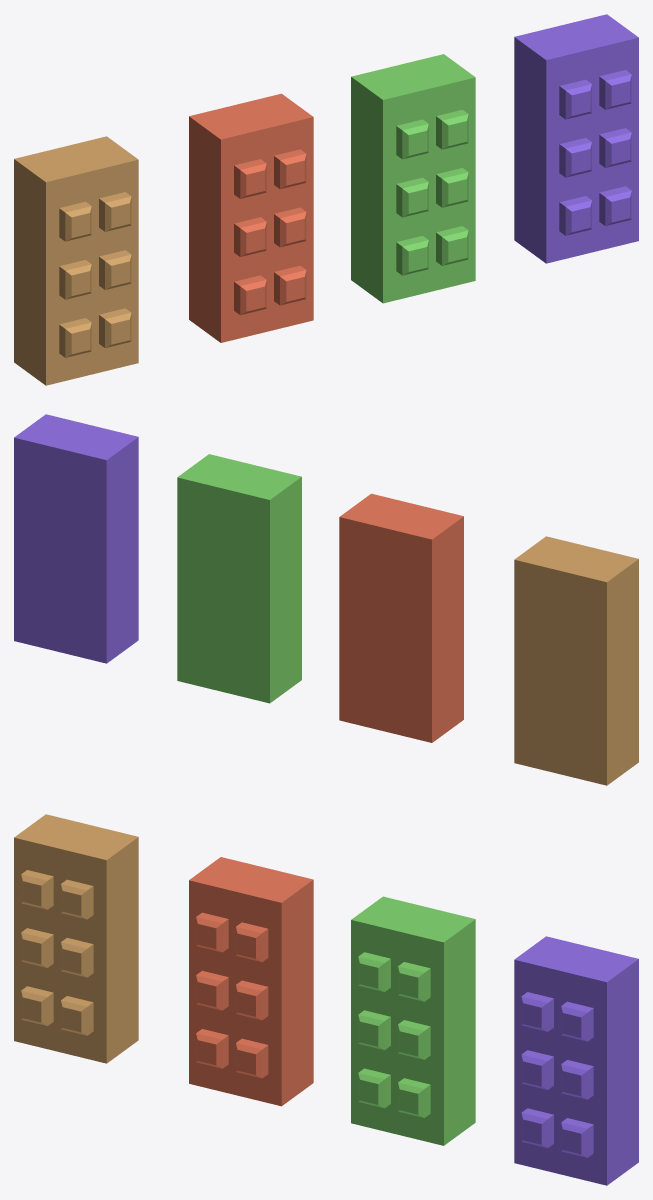
Rendered from lego.fbx.
3 renders of one model, top to bottom at view 1: azimuth 30°, elevation 25°; view 2: azimuth 150°, elevation 25°; view 3: azimuth 330°, elevation 25°, orthographic.
Visible parts, largest first — view 1: polySurface8, polySurface2, polySurface4, polySurface6, polySurface1, polySurface3, polySurface5, polySurface7; view 2: polySurface8, polySurface2, polySurface4, polySurface6, polySurface1, polySurface3, polySurface5, polySurface7; view 3: polySurface3, polySurface7, polySurface1, polySurface5, polySurface8, polySurface6, polySurface4, polySurface2.
Boxes of the visible parts, x1=… form: polySurface8: x1=514, y1=25, x2=592, y2=263; polySurface2: x1=14, y1=147, x2=92, y2=385; polySurface4: x1=189, y1=105, x2=267, y2=342; polySurface6: x1=351, y1=65, x2=429, y2=303; polySurface1: x1=60, y1=136, x2=138, y2=374; polySurface3: x1=236, y1=93, x2=313, y2=331; polySurface5: x1=398, y1=54, x2=475, y2=291; polySurface7: x1=561, y1=14, x2=638, y2=252; polySurface8: x1=60, y1=425, x2=138, y2=663; polySurface2: x1=560, y1=547, x2=638, y2=785; polySurface4: x1=385, y1=505, x2=463, y2=742; polySurface6: x1=223, y1=465, x2=301, y2=703; polySurface1: x1=514, y1=536, x2=592, y2=774; polySurface3: x1=339, y1=493, x2=416, y2=731; polySurface5: x1=177, y1=454, x2=254, y2=691; polySurface7: x1=14, y1=414, x2=91, y2=652; polySurface3: x1=235, y1=868, x2=313, y2=1106; polySurface7: x1=560, y1=947, x2=638, y2=1185; polySurface1: x1=60, y1=825, x2=138, y2=1063; polySurface5: x1=397, y1=908, x2=475, y2=1145; polySurface8: x1=514, y1=936, x2=592, y2=1174; polySurface6: x1=351, y1=896, x2=428, y2=1134; polySurface4: x1=189, y1=857, x2=266, y2=1094; polySurface2: x1=14, y1=814, x2=91, y2=1052.
Bounding box in the file's own units: 10.72 × 3.51 × 1.26.
